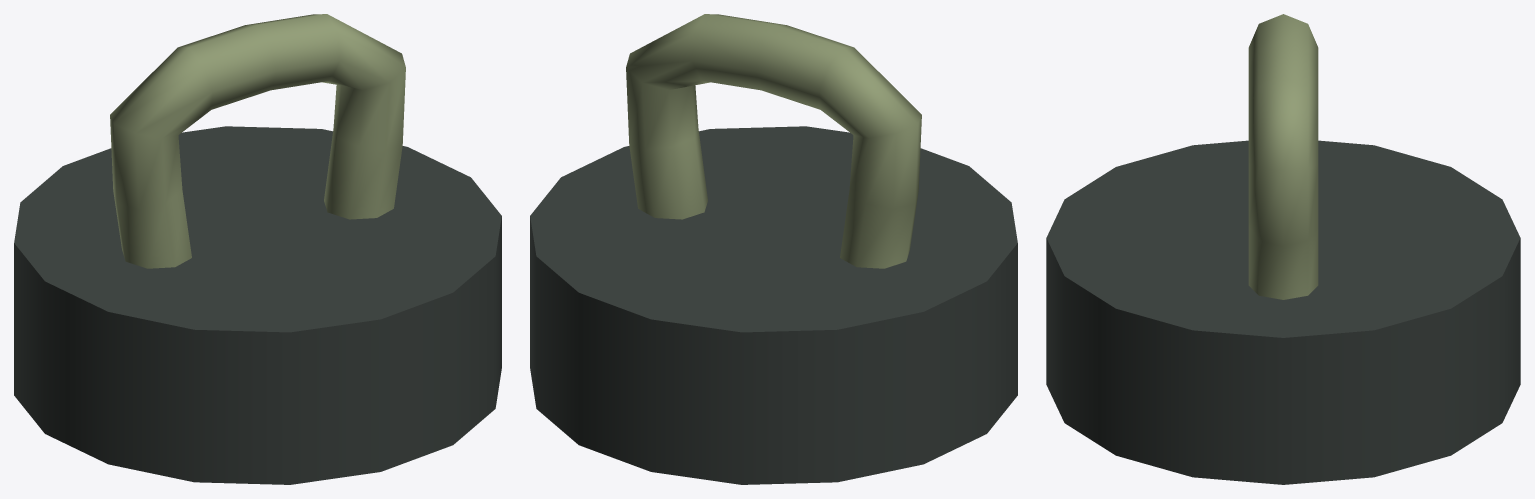
The model's file is survival-food-and-preservation-pressing-weight-f462fefb__21797.glb.
3 renders of one model, left to right at view 1: azimuth 30°, elevation 25°; view 2: azimuth 150°, elevation 25°; view 3: azimuth 270°, elevation 25°, orthographic. The views are drawn at different scales.
Visible parts, largest first — view 1: pressing-weight; view 2: pressing-weight; view 3: pressing-weight.
Boxes of the visible parts, left/top/right/bottom form: pressing-weight: left=14, top=14, right=501, bottom=484; pressing-weight: left=530, top=14, right=1017, bottom=484; pressing-weight: left=1046, top=14, right=1520, bottom=484.
Bounding box in the file's own units: 0.19 × 0.1521 × 0.19.
